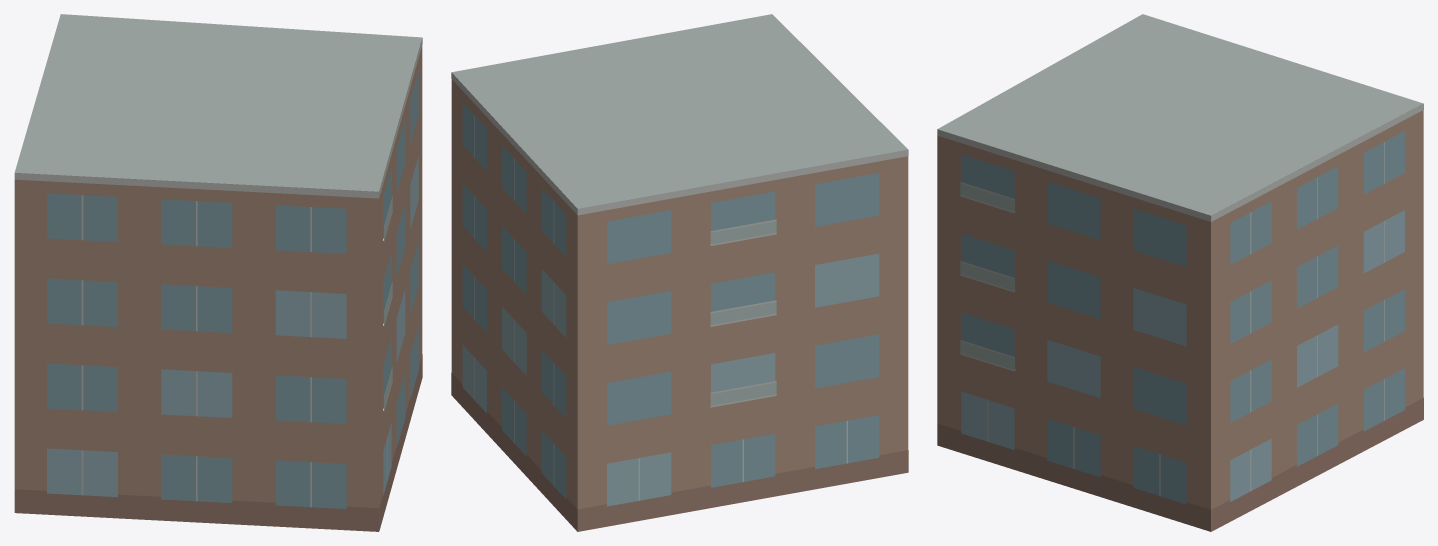
File: survey-upis-32601482.glb
3 views of the same model, side by side, from view 1: azimuth 30°, elevation 25°; view 2: azimuth 150°, elevation 25°; view 3: azimuth 270°, elevation 25° (orthographic). The views are drawn at different scales.
Visible parts, largest first — view 1: survey-upis-32601482.tmp; view 2: survey-upis-32601482.tmp; view 3: survey-upis-32601482.tmp.
Part boxes in pixels (left/top/right/bottom): survey-upis-32601482.tmp: left=14, top=14, right=422, bottom=531; survey-upis-32601482.tmp: left=451, top=14, right=908, bottom=531; survey-upis-32601482.tmp: left=937, top=14, right=1423, bottom=531.
Bounding box in the file's own units: 16.7 × 12.2 × 17.02.
